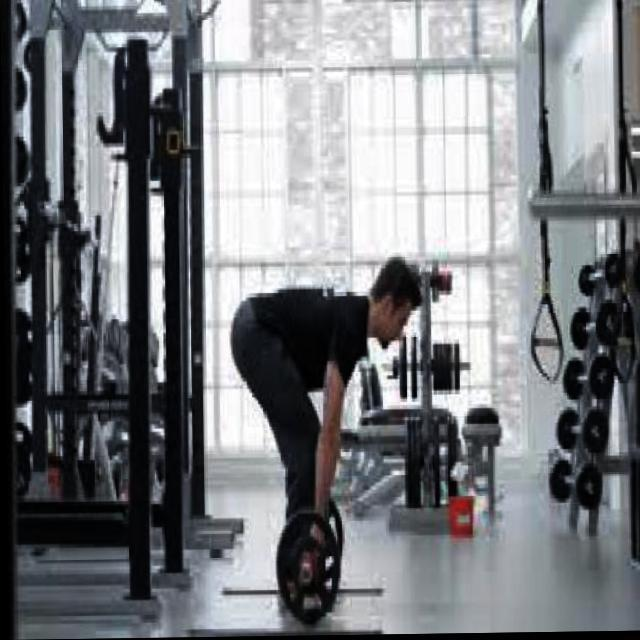barbell: (271, 505, 343, 632)
